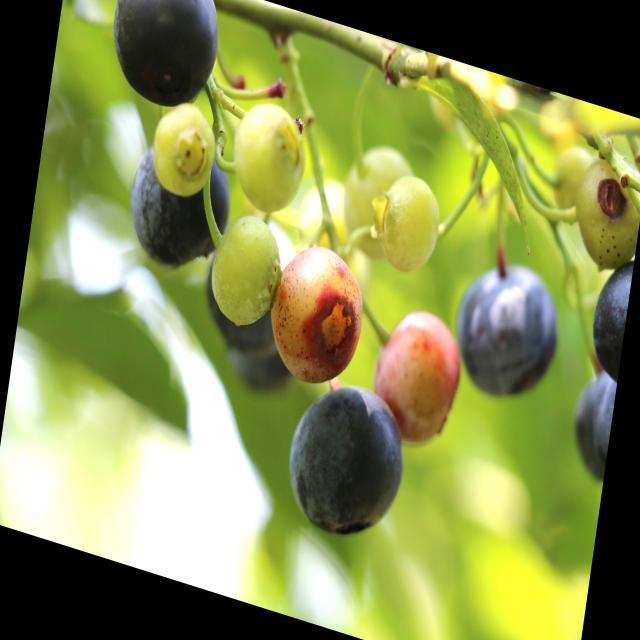blueberry: (272, 362, 411, 553), (445, 243, 564, 416), (120, 129, 238, 290), (104, 0, 227, 122), (586, 250, 634, 382), (568, 362, 618, 479)
blueberry-halfripe: (262, 233, 372, 400), (365, 298, 468, 462)
blueberry-unripe: (200, 195, 292, 338), (225, 88, 312, 226), (567, 142, 640, 284), (341, 134, 413, 268), (375, 168, 449, 284), (147, 93, 220, 206)
